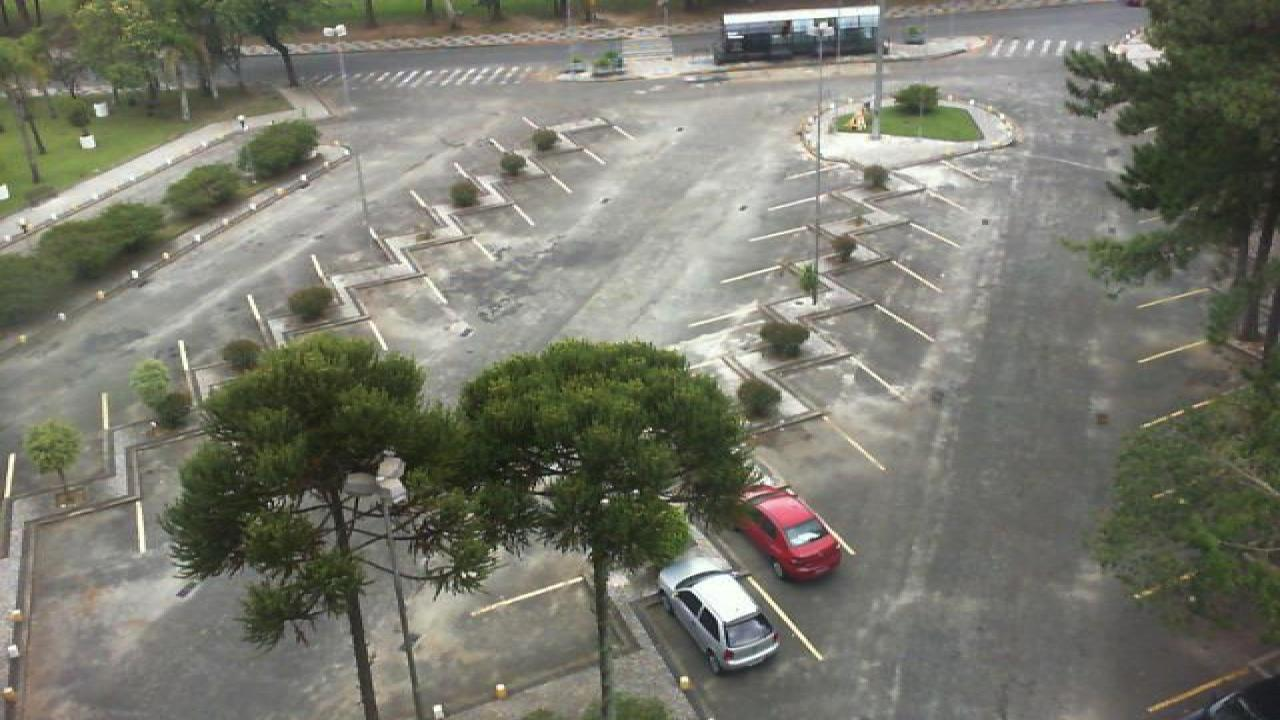Car: (654, 546, 782, 674), (732, 484, 844, 582)
